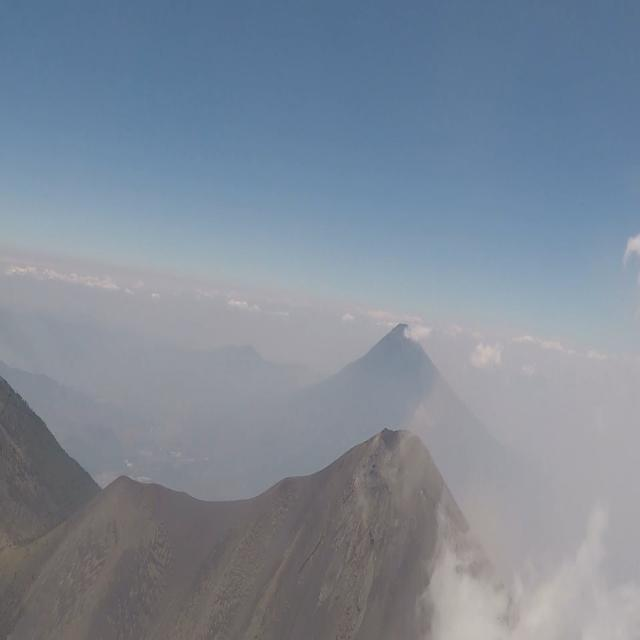Summit: (248, 413, 500, 574)
